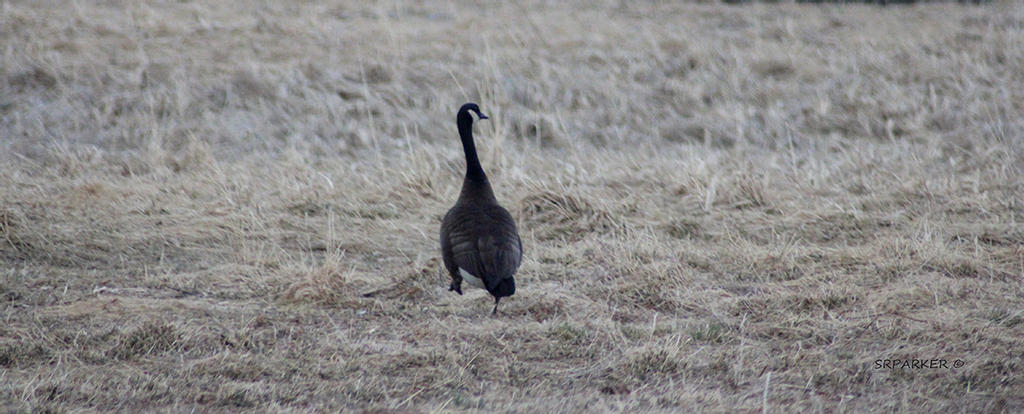goose: (434, 100, 528, 320)
